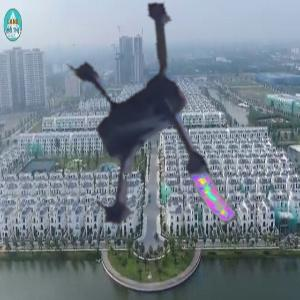drone: (19, 2, 298, 281)
